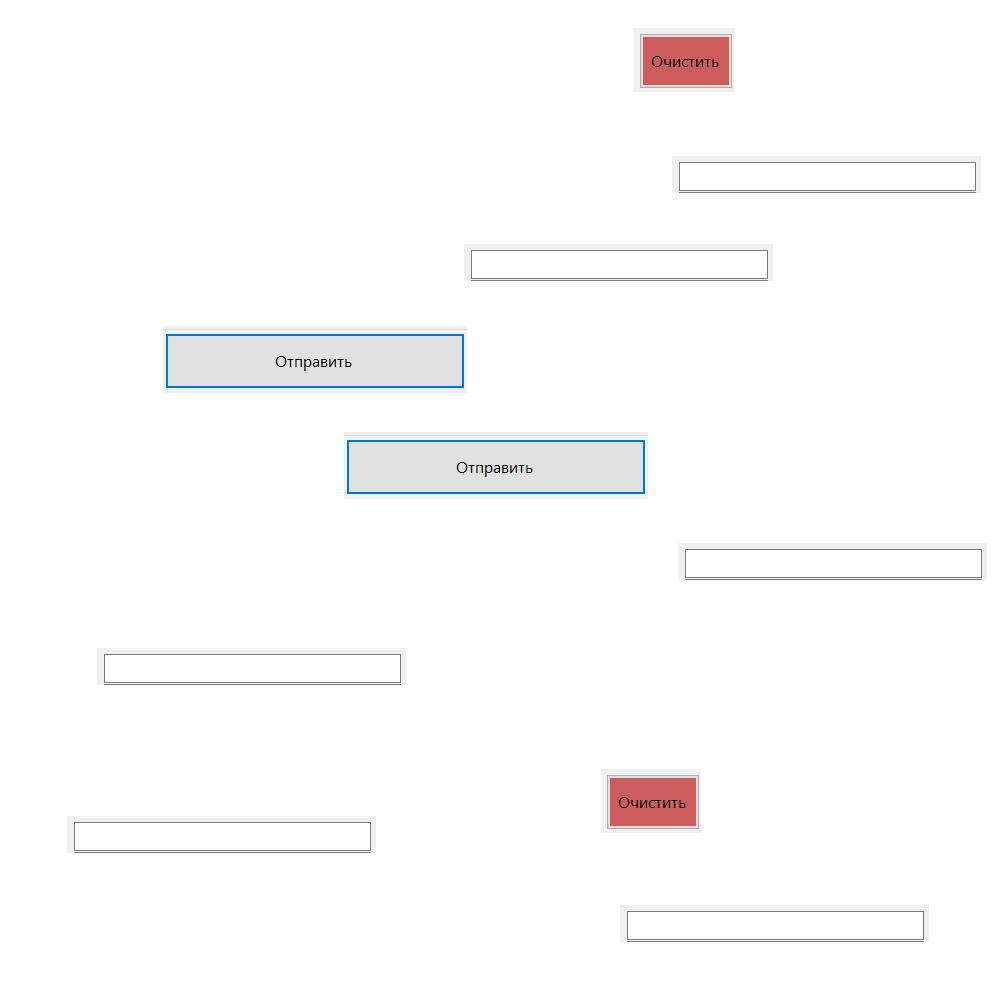Button: (344, 432, 648, 499), (163, 326, 467, 393), (601, 769, 701, 833), (634, 28, 734, 92)
EditText-: (464, 244, 773, 281), (97, 648, 406, 685), (620, 905, 929, 942), (678, 543, 987, 580), (67, 816, 376, 853), (672, 156, 981, 193)
